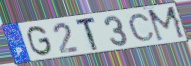2: (51, 21, 80, 55)
3: (104, 14, 129, 48)
C: (128, 13, 156, 42)
G: (26, 25, 54, 58)
M: (146, 5, 187, 43)
T: (75, 15, 100, 52)
